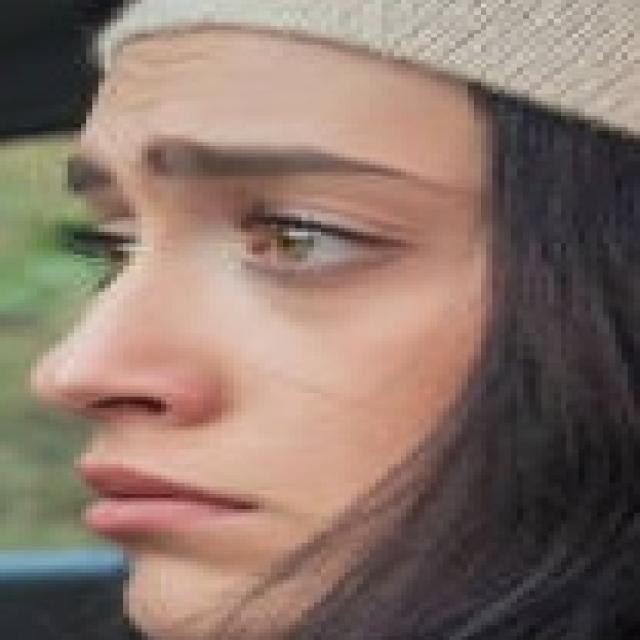Anxiety: (24, 26, 490, 636)
